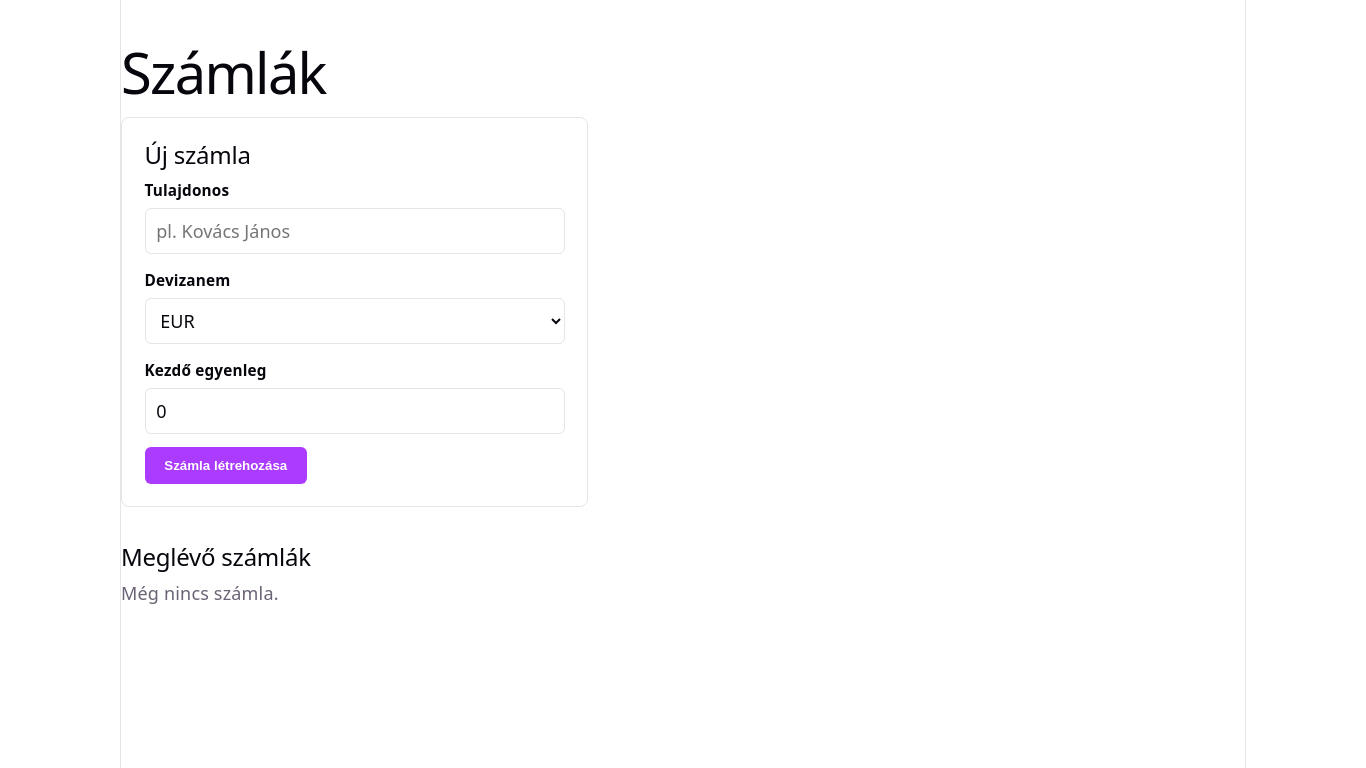
Test: AccountsPage › submits the form and refreshes the list on success
Expected: the text "Még nincs számla." is shown, [121, 581, 279, 605]
Type "Charlie" into the field labelled "Tulajdonos".
click(354, 231); type("Charlie")  # box [144, 208, 564, 254]
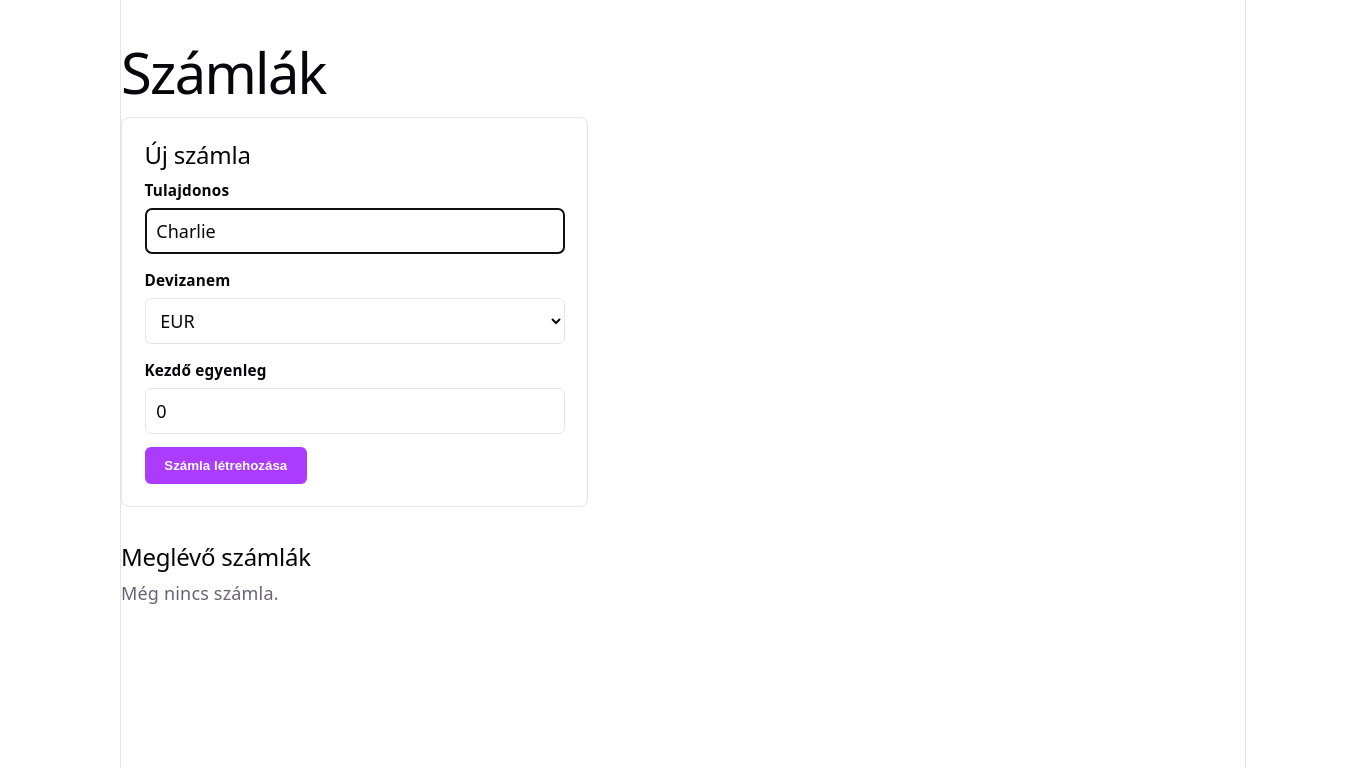
Select "USD" in the dropdown labelled "Devizanem" at point(354, 321), box [144, 298, 564, 344]
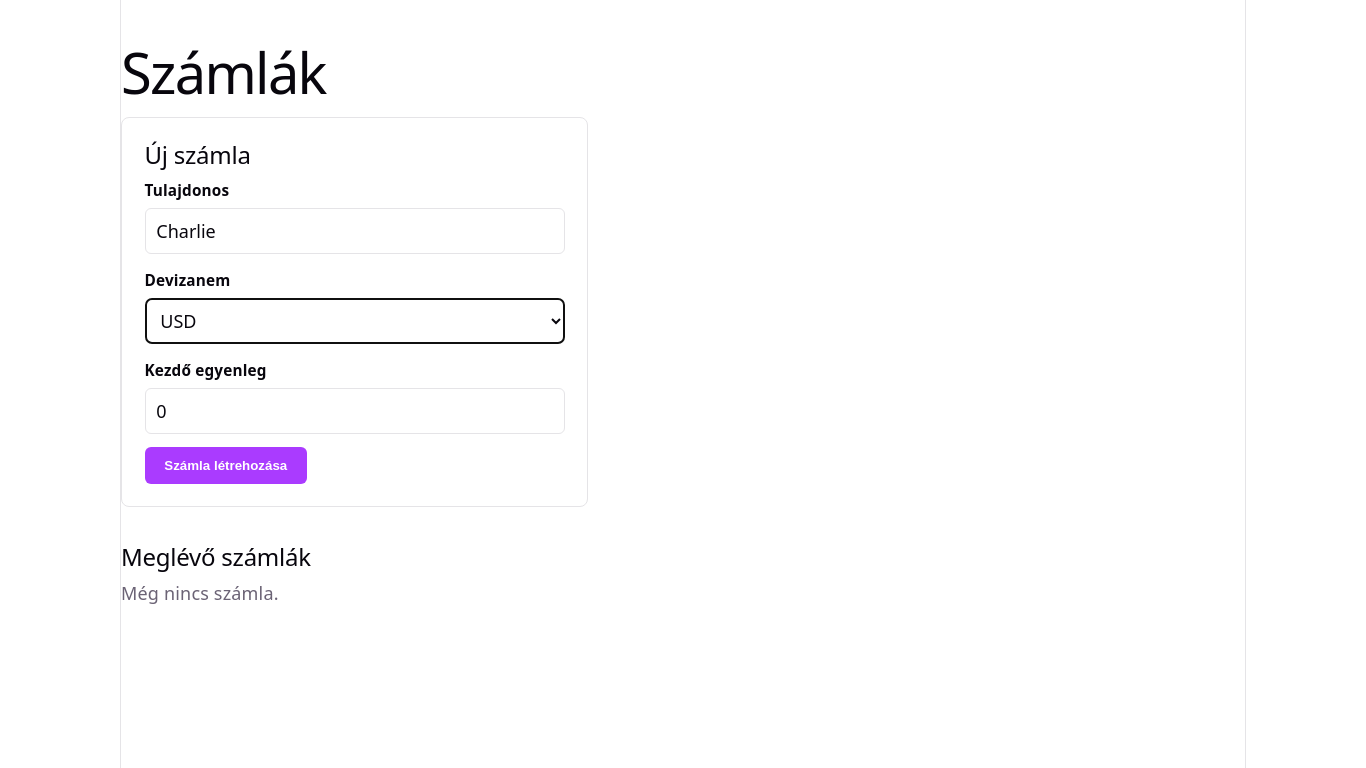
Replace the text in the number field labelled "Kezdő egyenleg" with "50" at point(354, 411), box [144, 388, 564, 434]
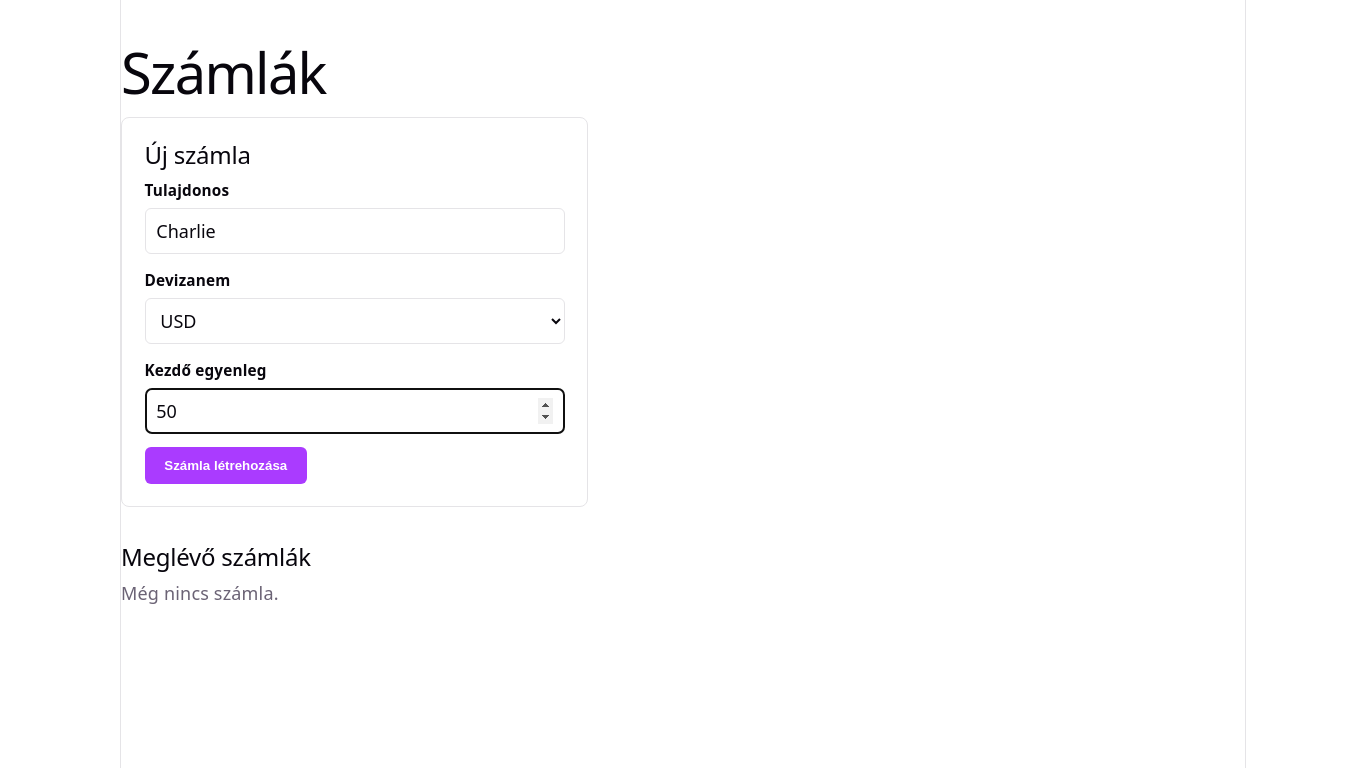
Click the button "Számla létrehozása".
click(226, 466)  # box [144, 447, 307, 484]
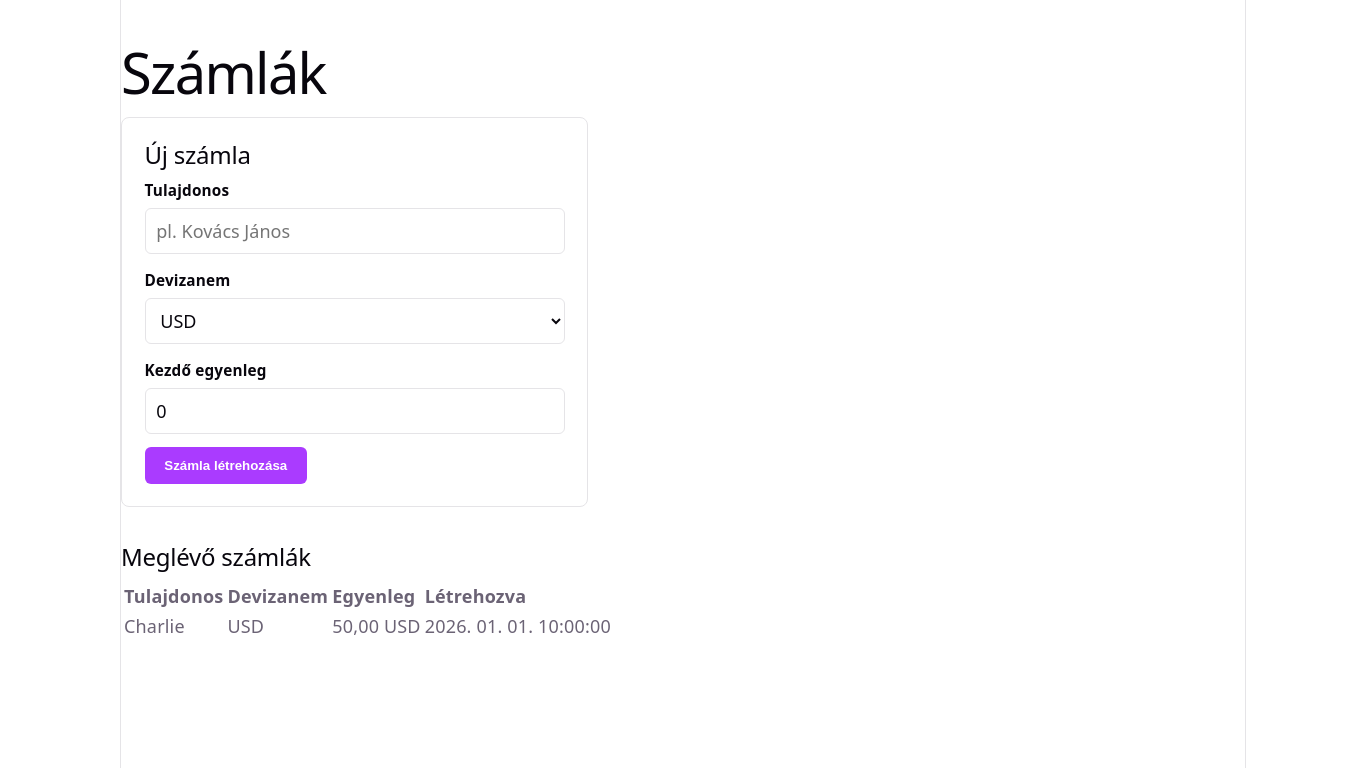
Expected: the text "Charlie" is shown, [123, 612, 224, 640]
Expected: the field labelled "Tulajdonos" is empty, [144, 208, 564, 254]
